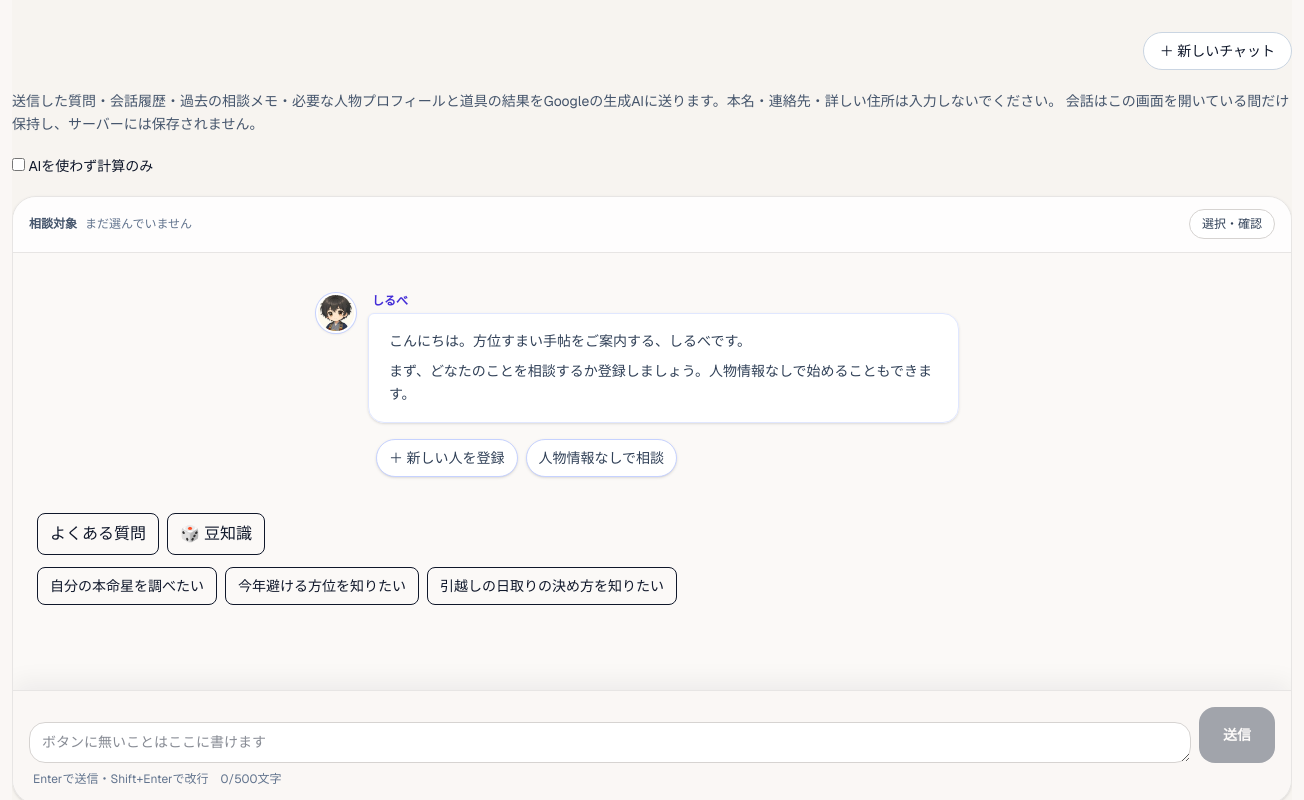
Test case: AI回答を逐次描き、道具の状態を利用者向けに折り畳む
This screenshot has width=1304, height=800.
Expected: the text "Googleの生成AIに送ります" is shown, [12,92,1062,110]
Expected: the text "しるべ" is shown, [372,292,408,308]
Click the button "人物情報なしで相談" at (601, 458), box [526,439,677,477]
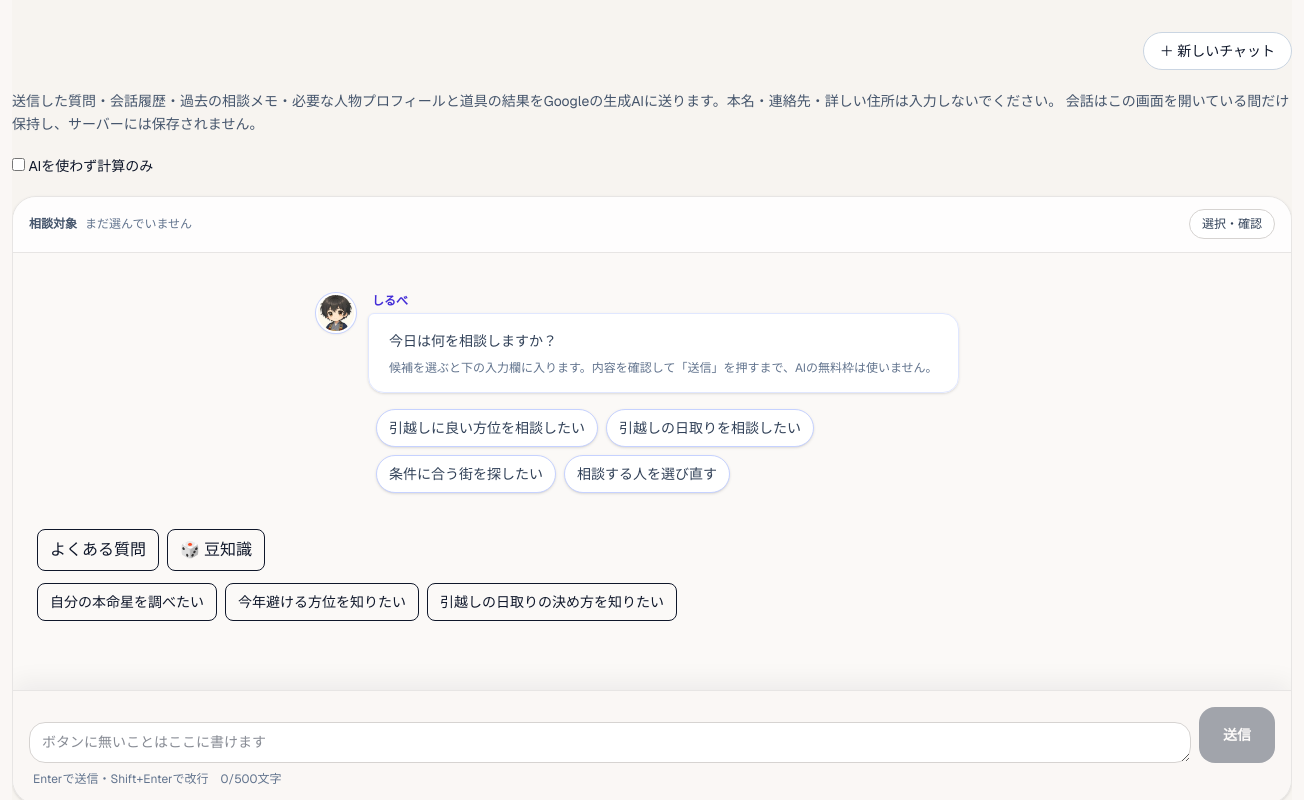
Click the button "引越しに良い方位を相談したい" at (487, 428), box [376,409,598,447]
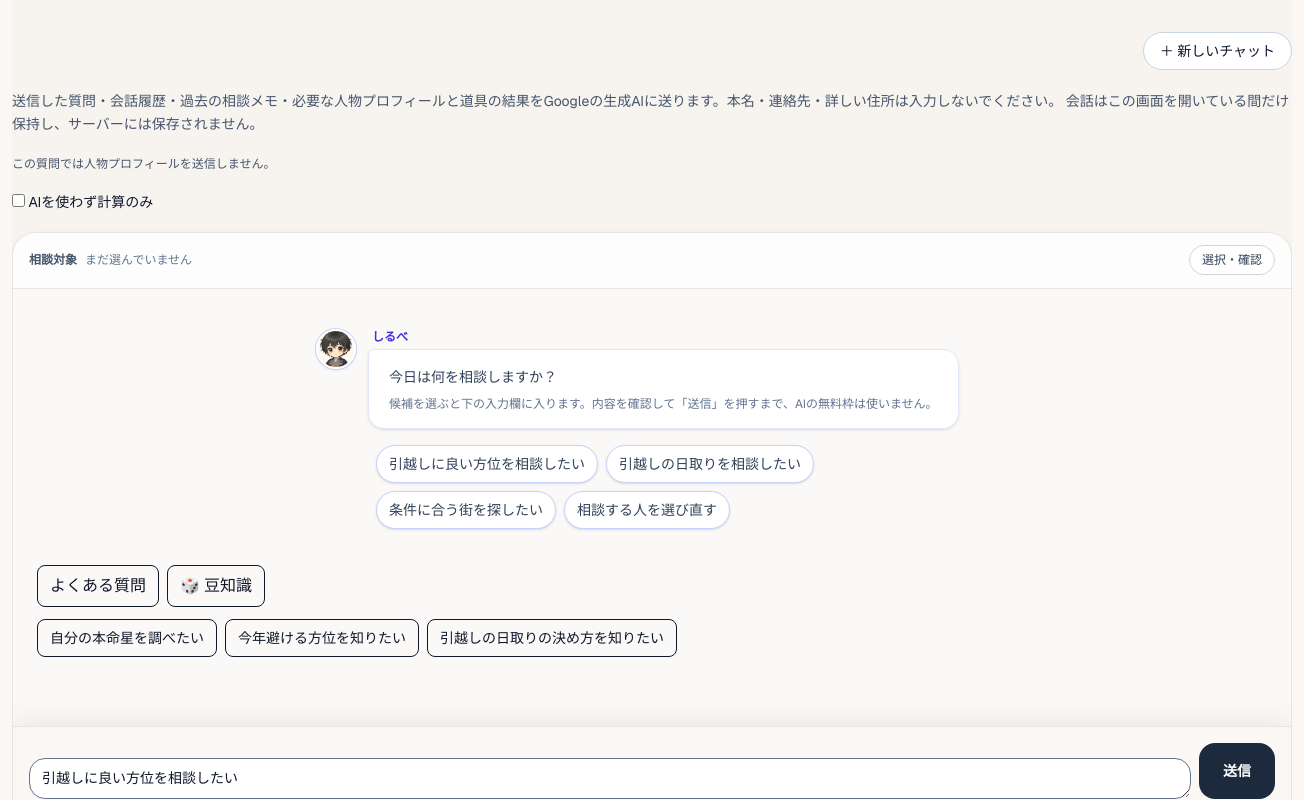
Now the text box named "メッセージ" holds "引越しに良い方位を相談したい", box [29,758,1191,799]
Click the button "送信" at (1237, 770), box [1199,742,1275,798]
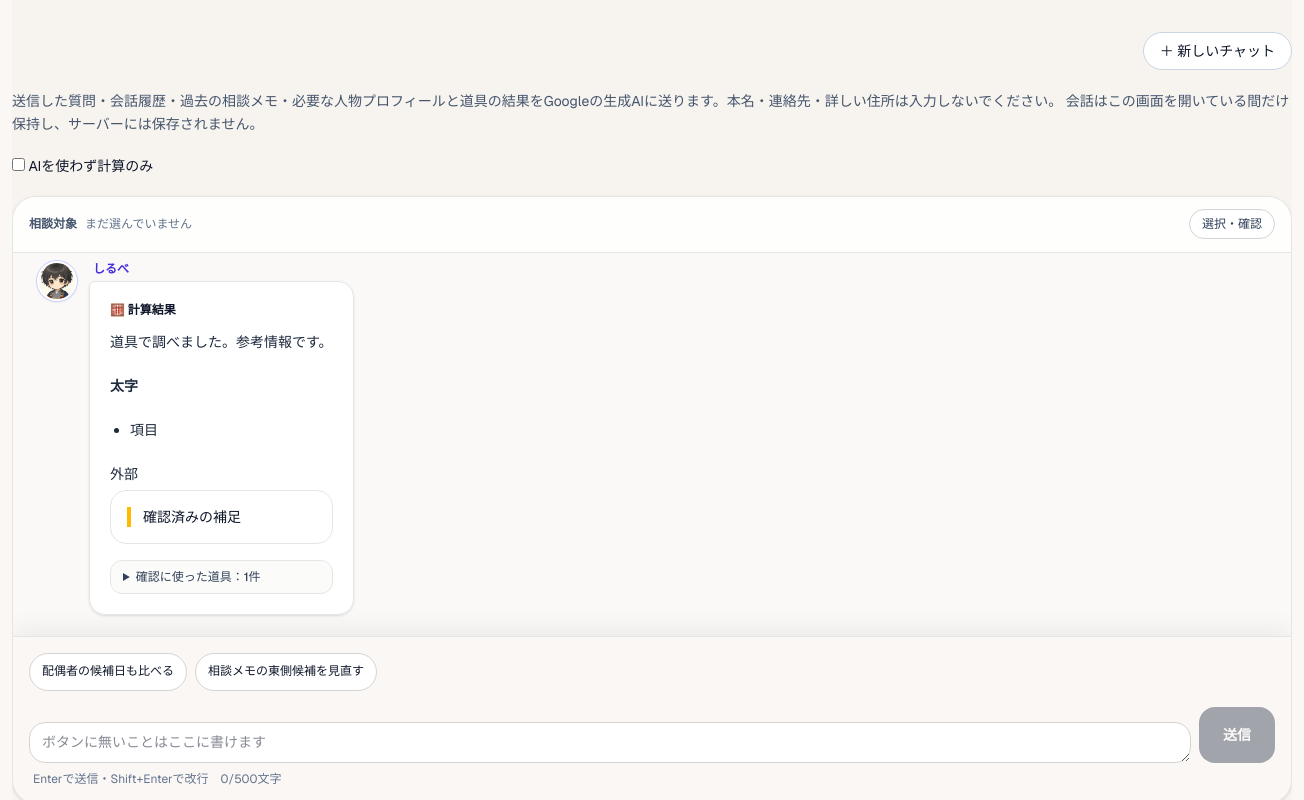
Now the heading "確認に使った道具：1件" is shown, box [136,569,261,585]
Now the text "道具で調べました。参考情報です。" is shown, box [110,333,333,351]
Now the text "確認済みの補足" is shown, box [127,507,316,527]
Click the button "配偶者の候補日も比べる" at (108, 672), box [29,653,187,690]
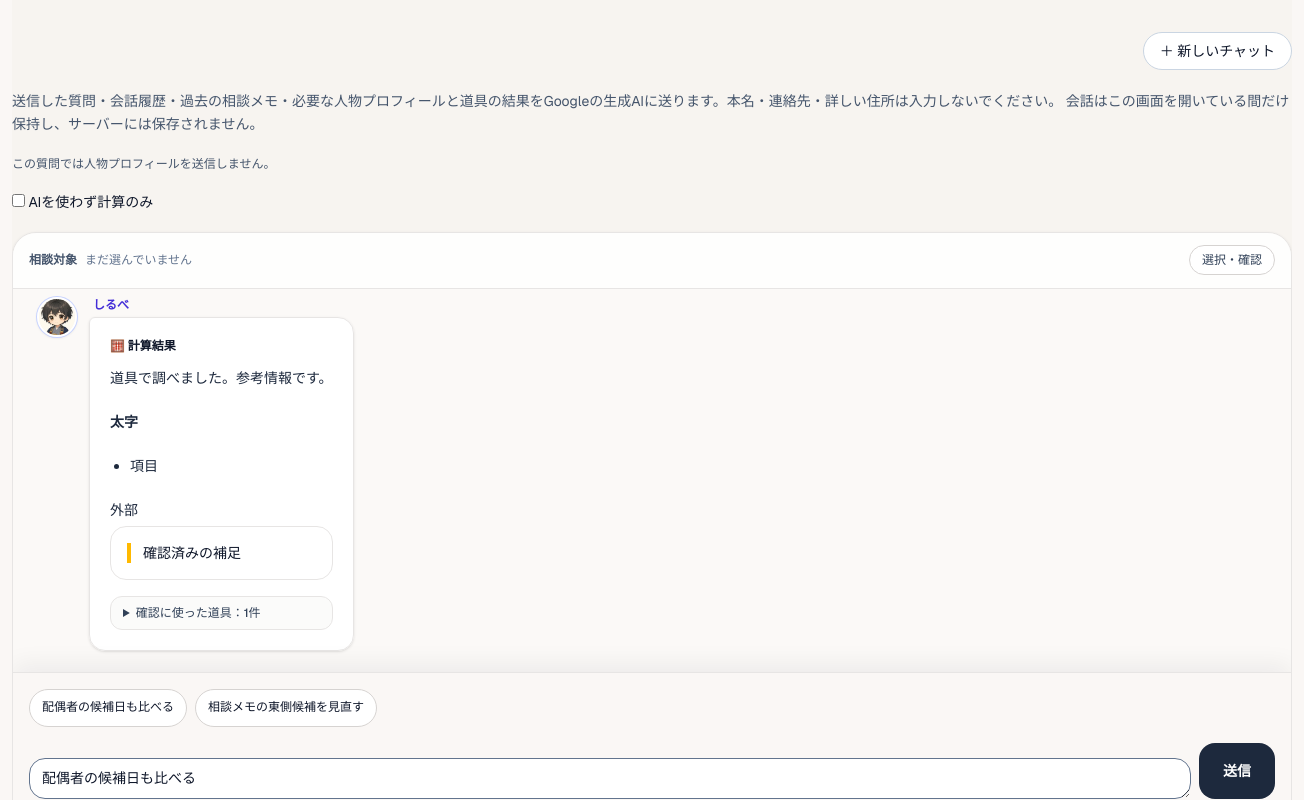
Now the text box named "メッセージ" holds "配偶者の候補日も比べる", box [29,758,1191,799]
